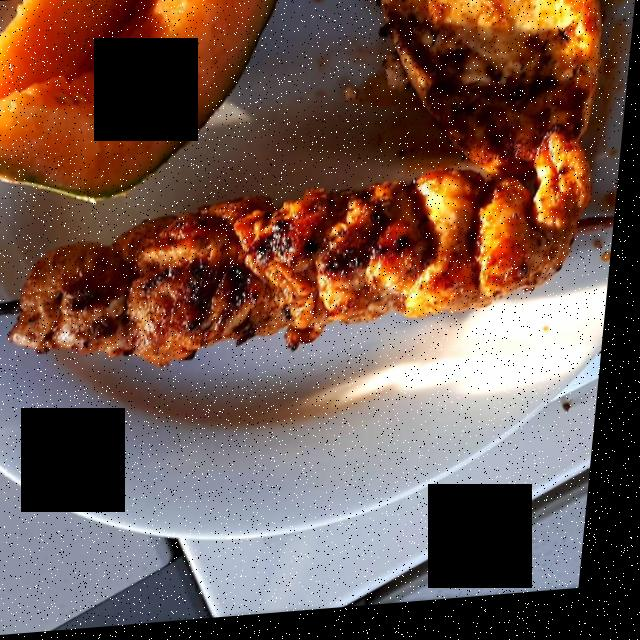chicken: (18, 143, 586, 372)
